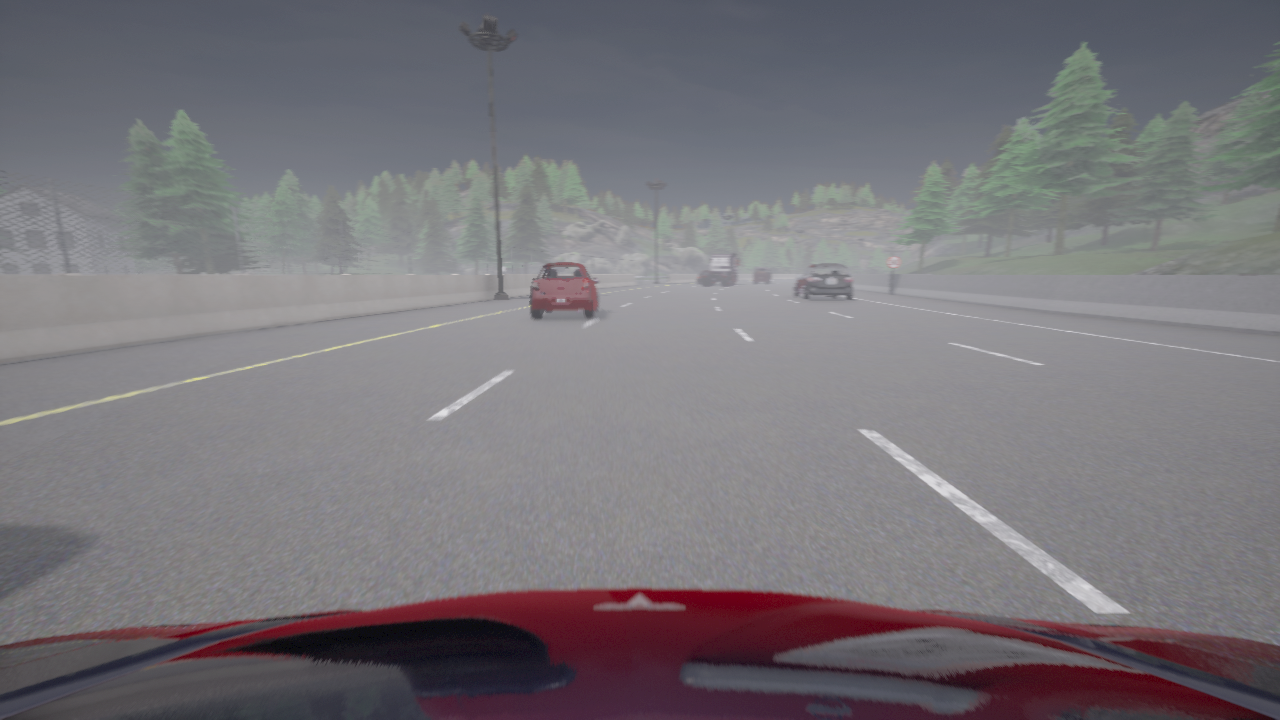cyclist: (0, 588, 1279, 719), (531, 263, 598, 318), (795, 264, 853, 299), (701, 253, 739, 285), (754, 268, 771, 283), (698, 271, 709, 282)
